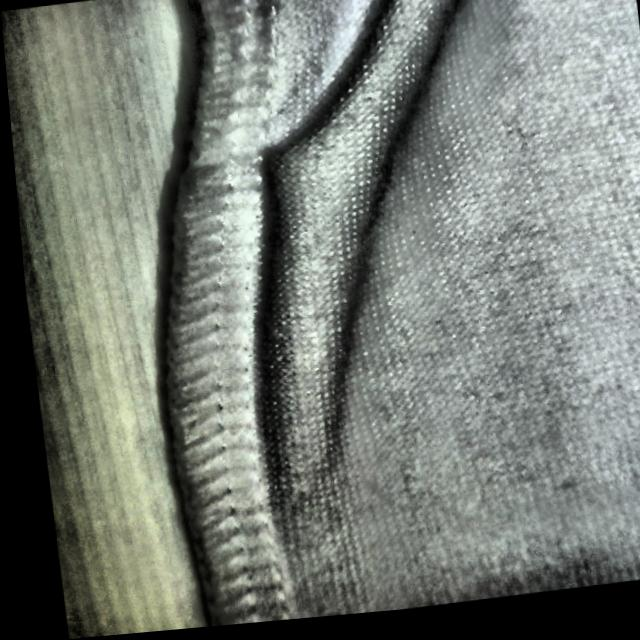seam: (153, 68, 427, 303)
